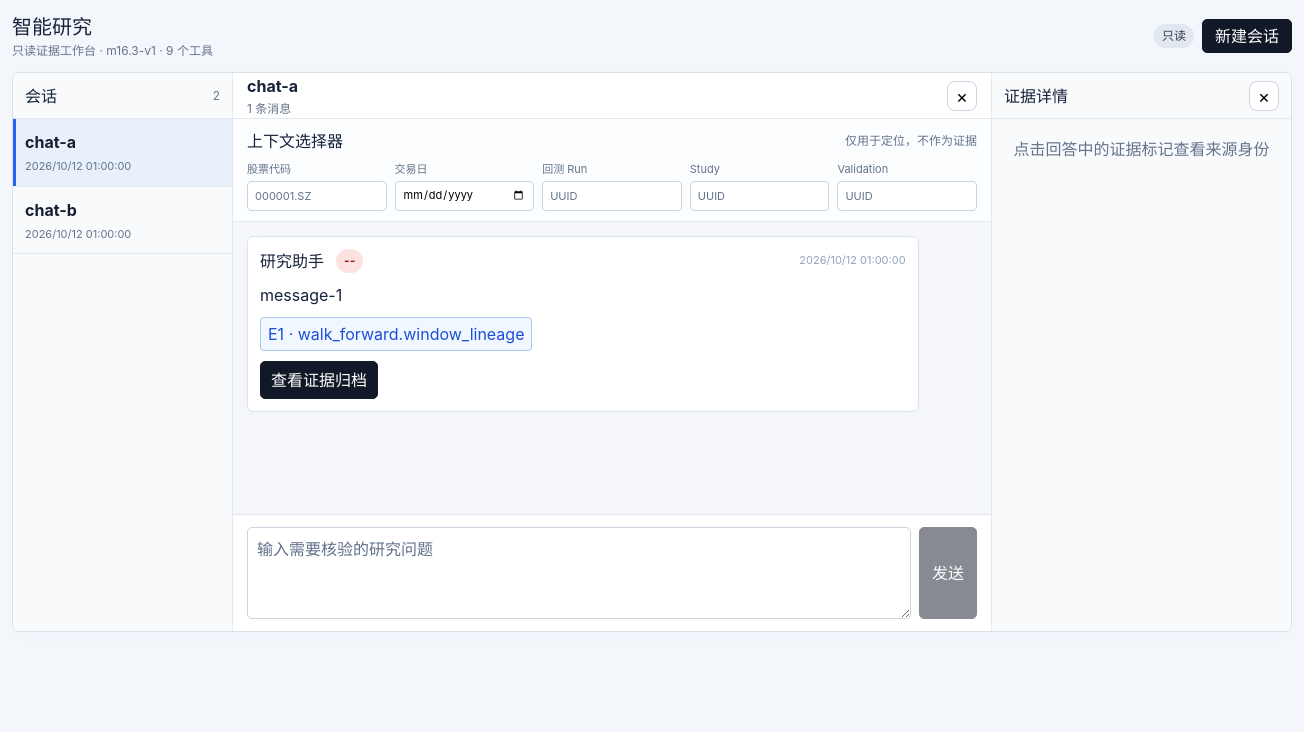
Scenario: an old citation with missing identities gives an explicit downgrade
Click the button "E1 · walk_forward.window_lineage": (396, 334) [260, 317, 532, 351]
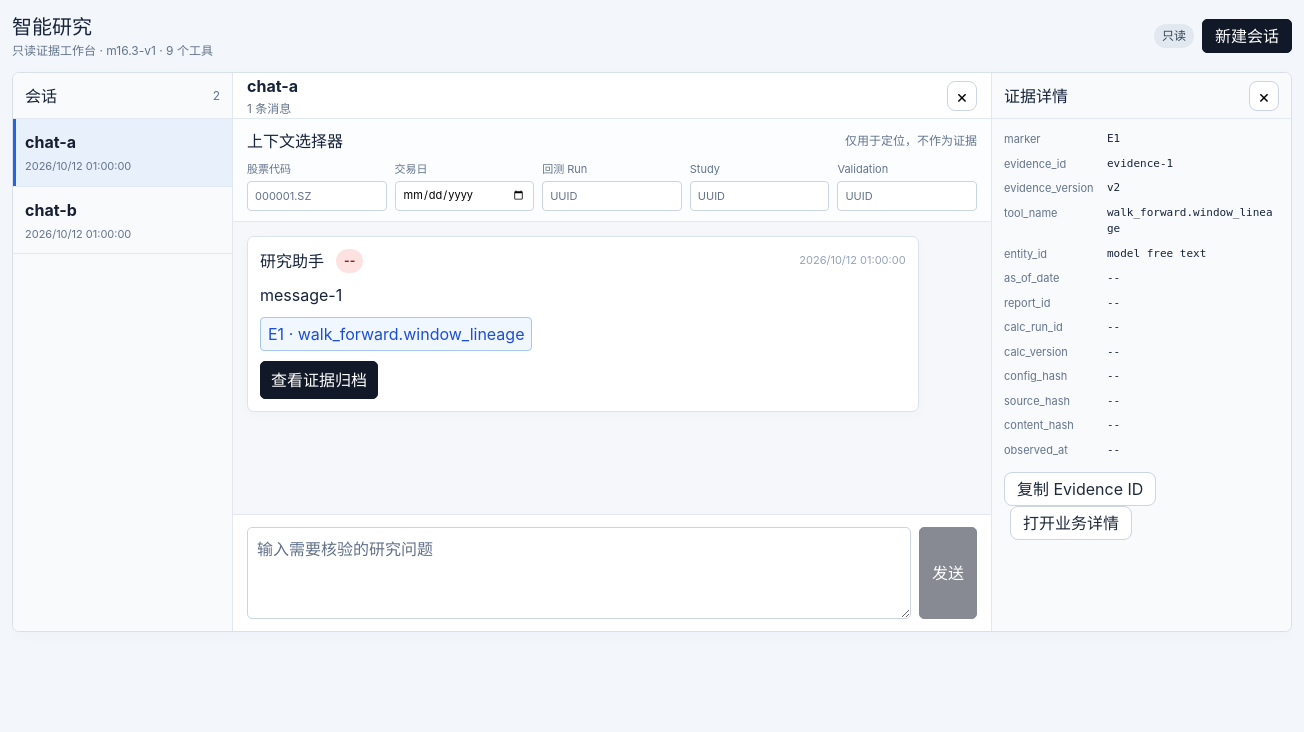
Click the button "打开业务详情": (1071, 523) [1010, 506, 1132, 540]
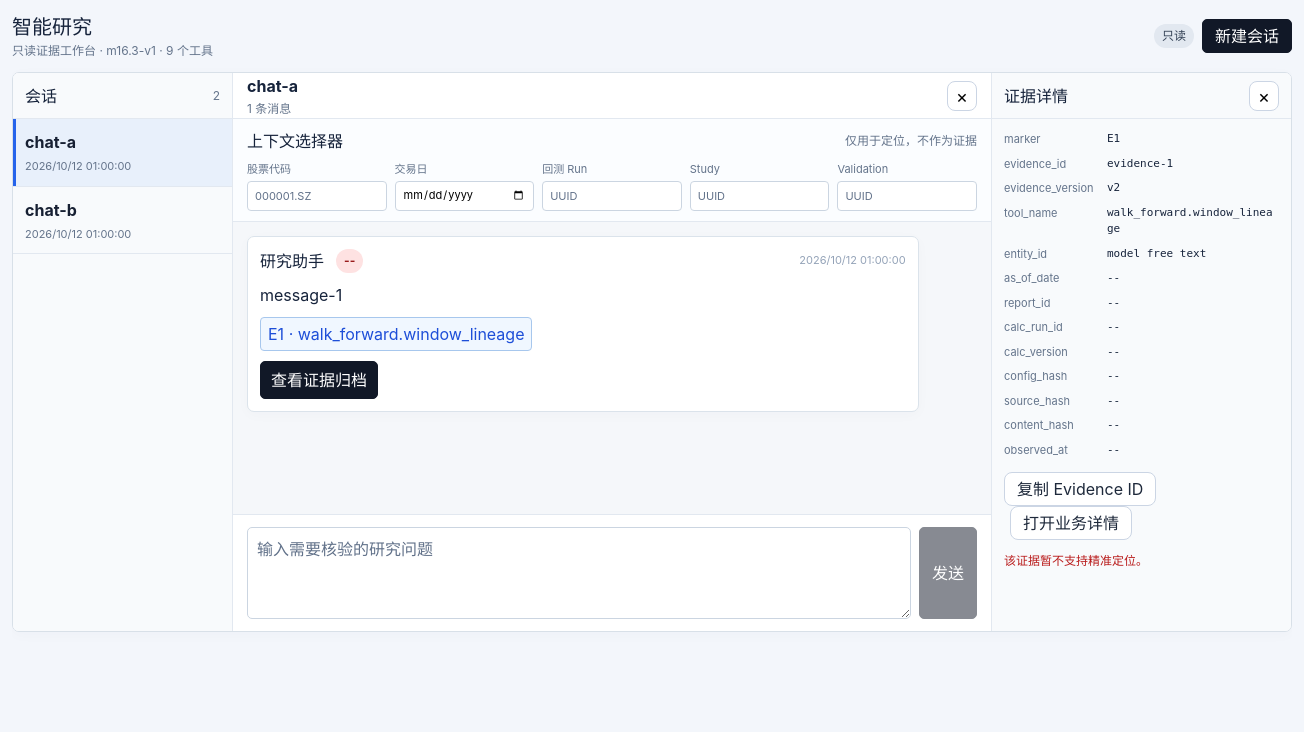
expect the text "该证据暂不支持精准定位" is shown: met, box [1004, 553, 1148, 568]
